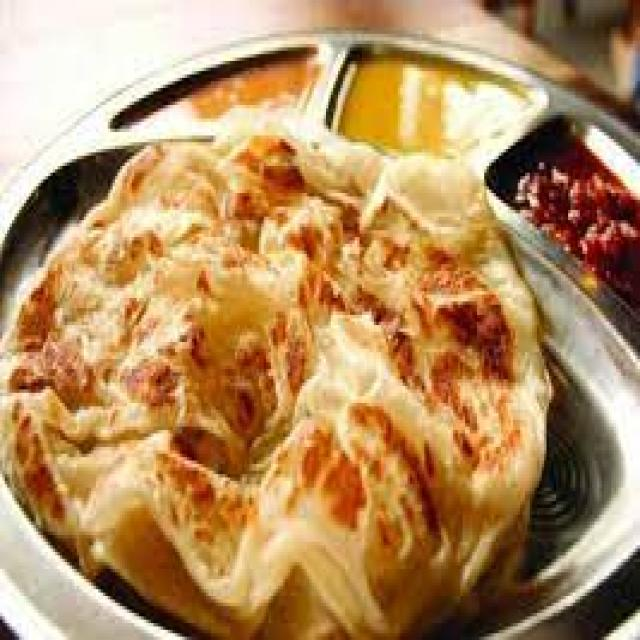Paratha: (46, 120, 536, 640)
